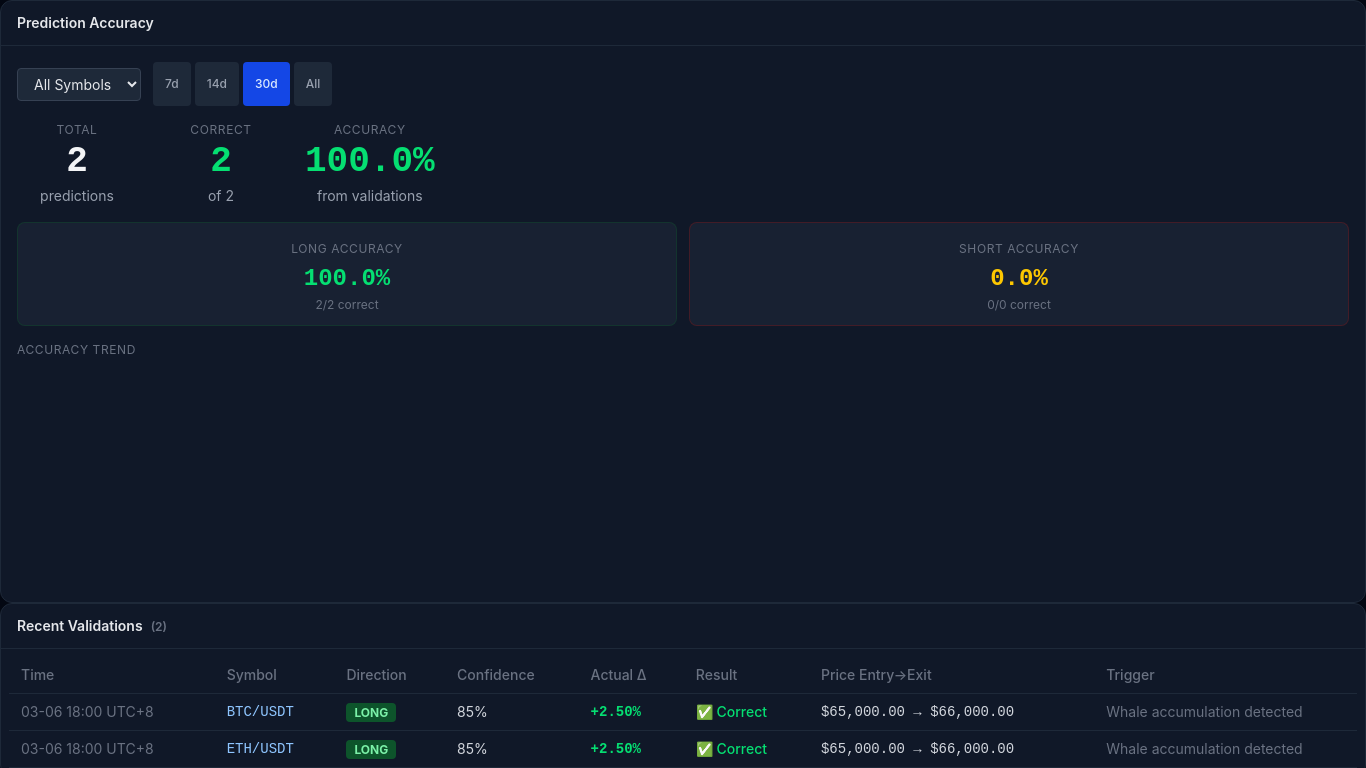
AccuracyAndValidationsSection › filters by symbol
Select "BTC/USDT" in the dropdown at (79, 84), box [17, 68, 141, 100]
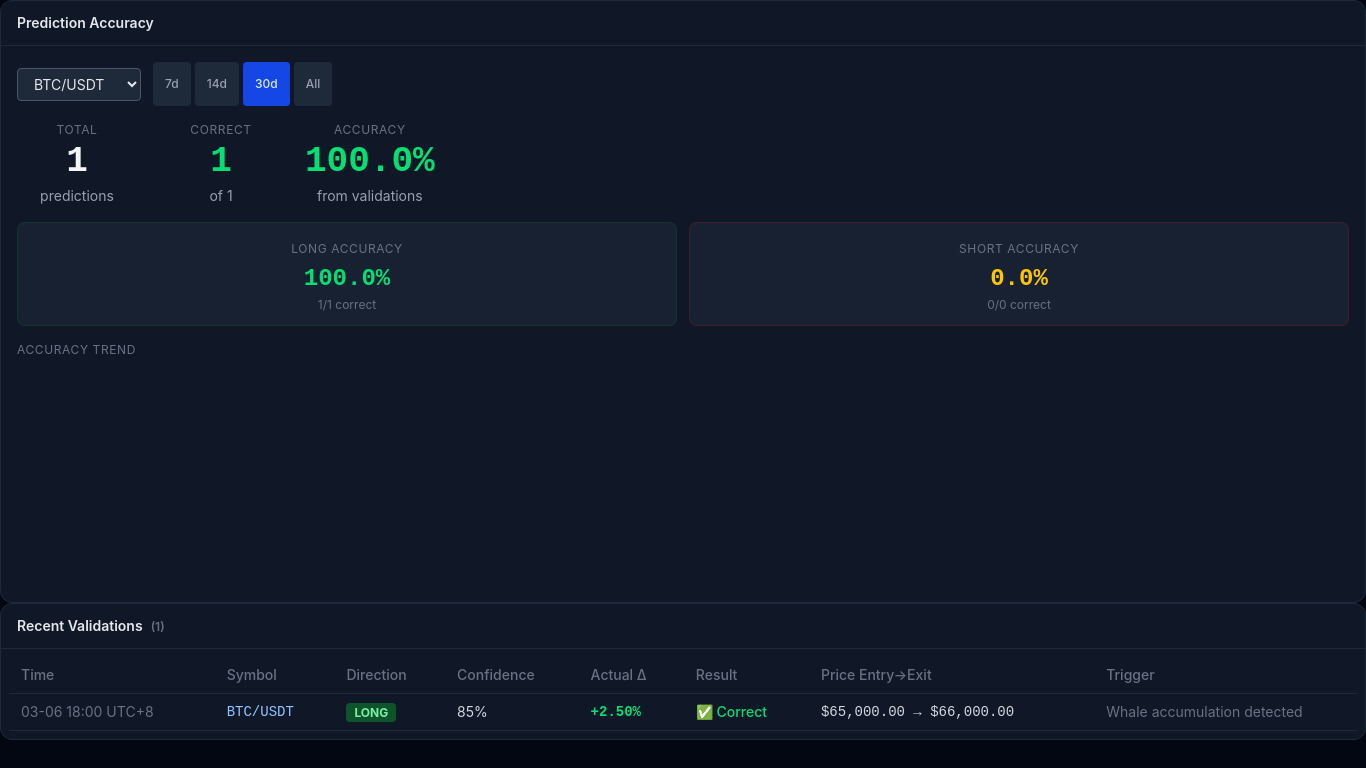
Expected: the text "1" below "Total" is shown, [66, 141, 88, 182]
